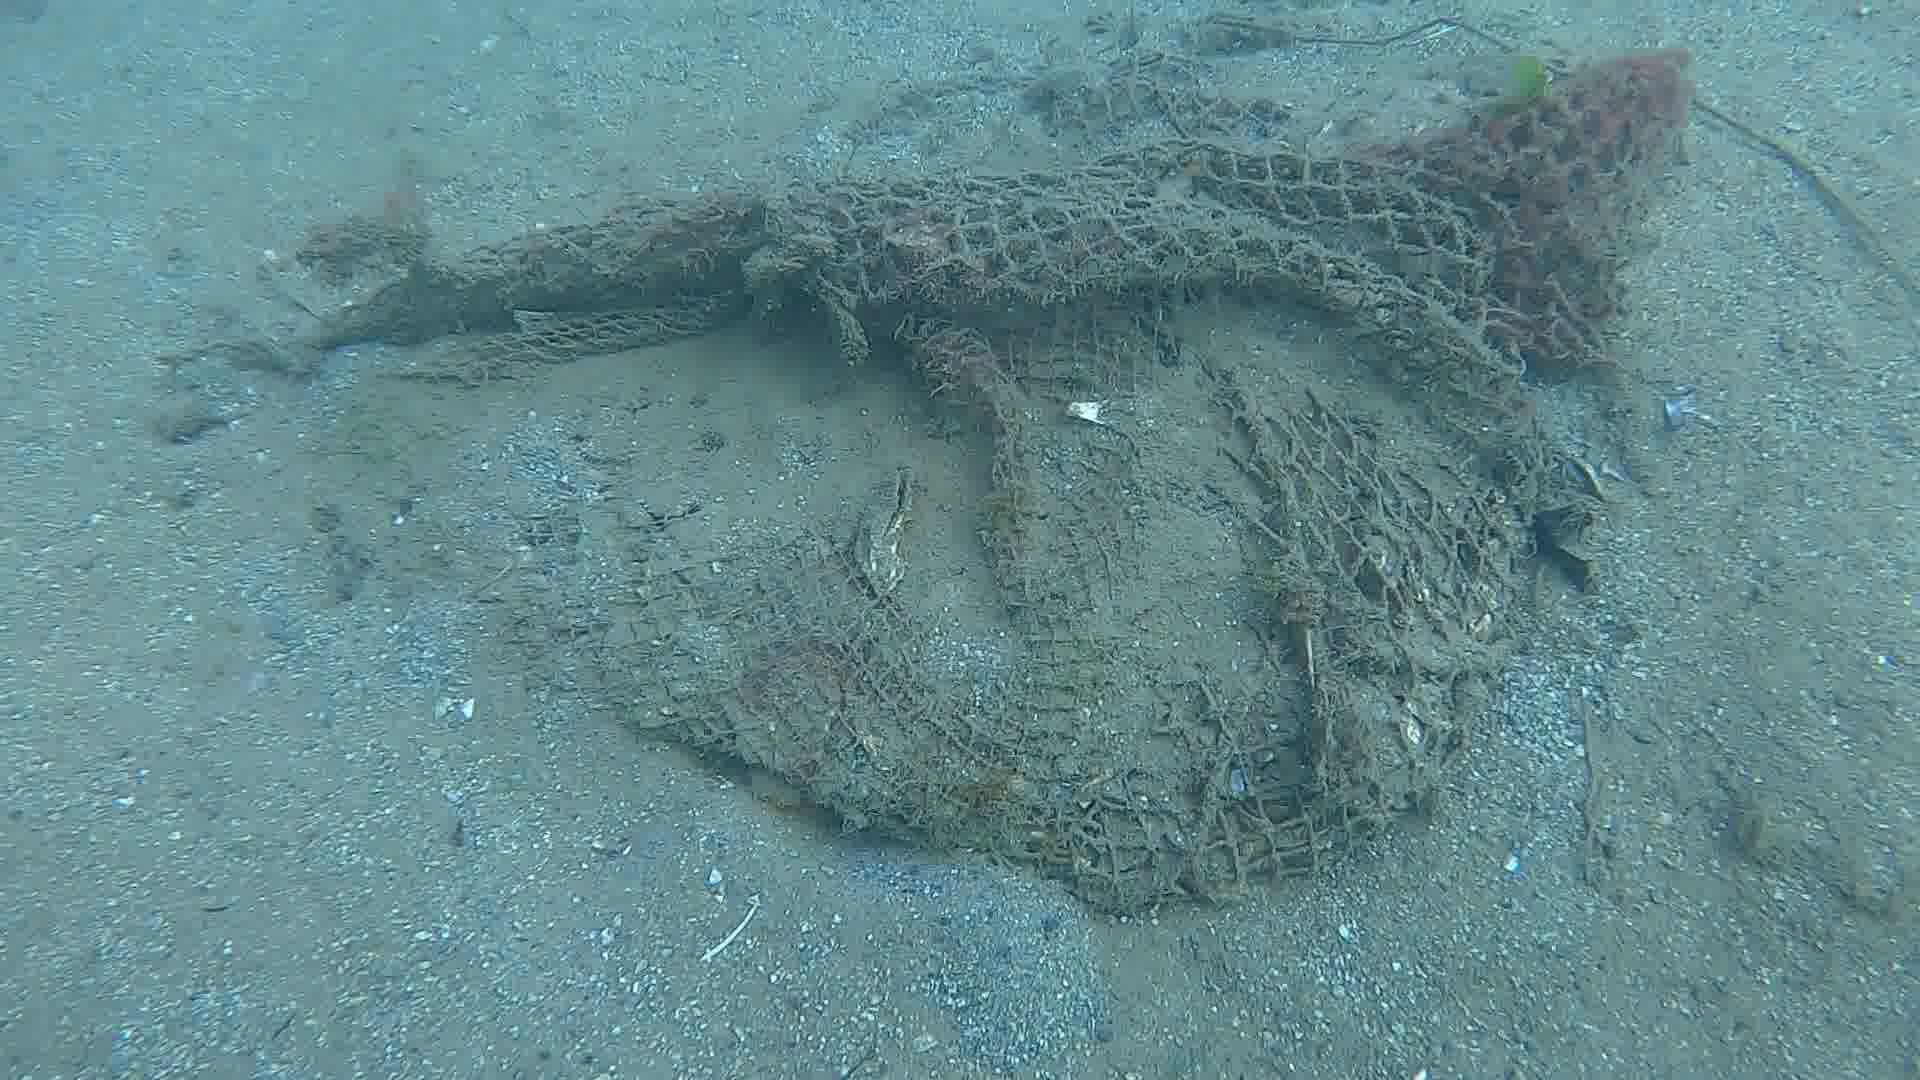fish net: (472, 71, 1662, 913)
